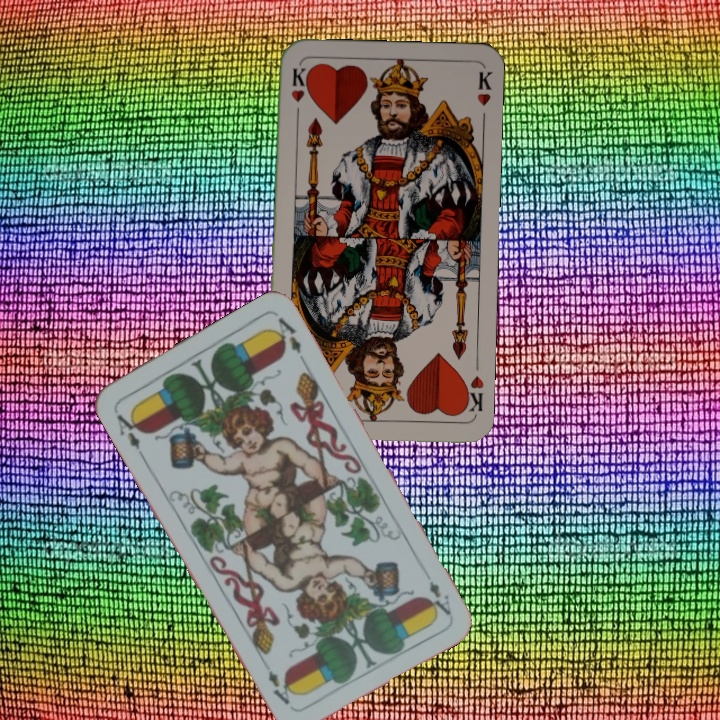EA: (112, 408, 147, 453), (423, 577, 454, 620)
HK: (287, 64, 309, 122), (459, 372, 486, 417)
